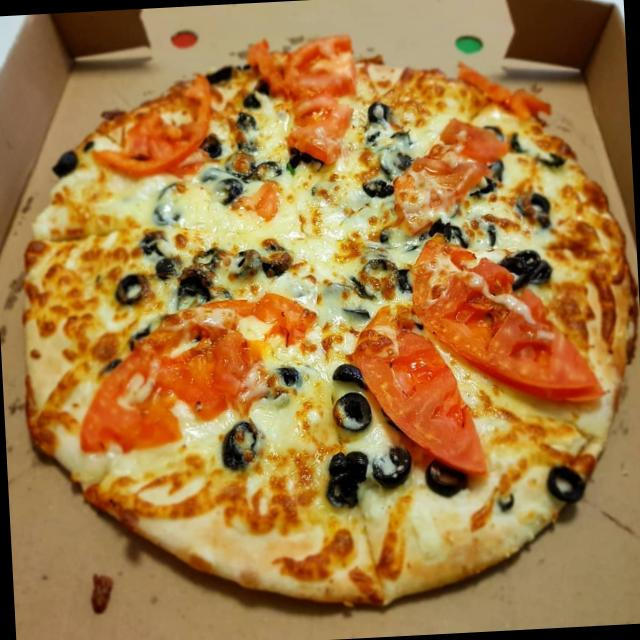black_olives: (323, 442, 412, 508), (362, 124, 416, 198), (172, 242, 224, 307), (348, 255, 415, 302), (500, 243, 550, 297), (234, 74, 273, 135), (214, 148, 258, 198), (230, 244, 286, 282), (424, 453, 470, 499), (222, 418, 264, 467), (543, 460, 588, 504), (240, 154, 294, 184), (332, 388, 370, 430), (467, 156, 504, 197), (266, 359, 302, 400), (362, 90, 399, 126), (428, 213, 468, 245), (194, 62, 236, 92), (522, 186, 554, 223), (116, 264, 146, 300), (331, 352, 363, 384), (196, 129, 222, 162), (52, 144, 79, 175), (152, 252, 180, 278), (548, 134, 568, 168), (140, 228, 167, 248)
pizza: (20, 34, 640, 614)
